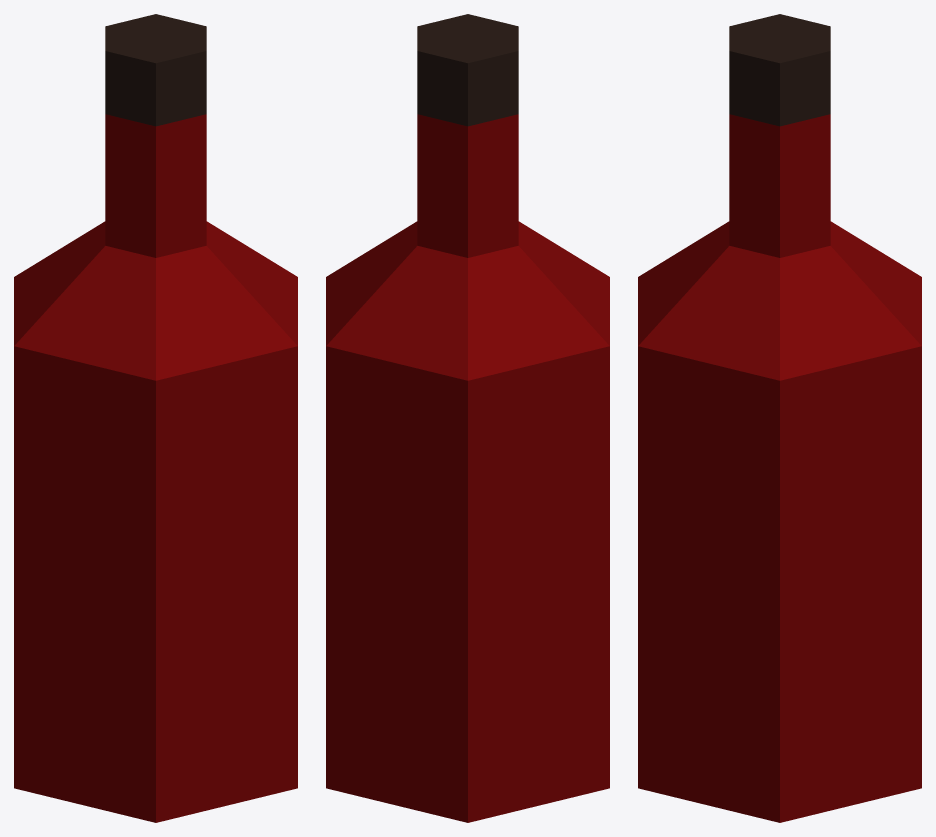
3 views of the same model, side by side, from view 1: azimuth 30°, elevation 25°; view 2: azimuth 150°, elevation 25°; view 3: azimuth 270°, elevation 25° (orthographic).
Parts seen in each view (by area): view 1: Cylinder026; view 2: Cylinder026; view 3: Cylinder026.
Part boxes in pixels (x1,y1,x2,y2): Cylinder026: [14, 14, 297, 822]; Cylinder026: [326, 14, 609, 822]; Cylinder026: [638, 14, 921, 822].
Size of the model in its own units: 0.12 by 0.289 by 0.1039.
